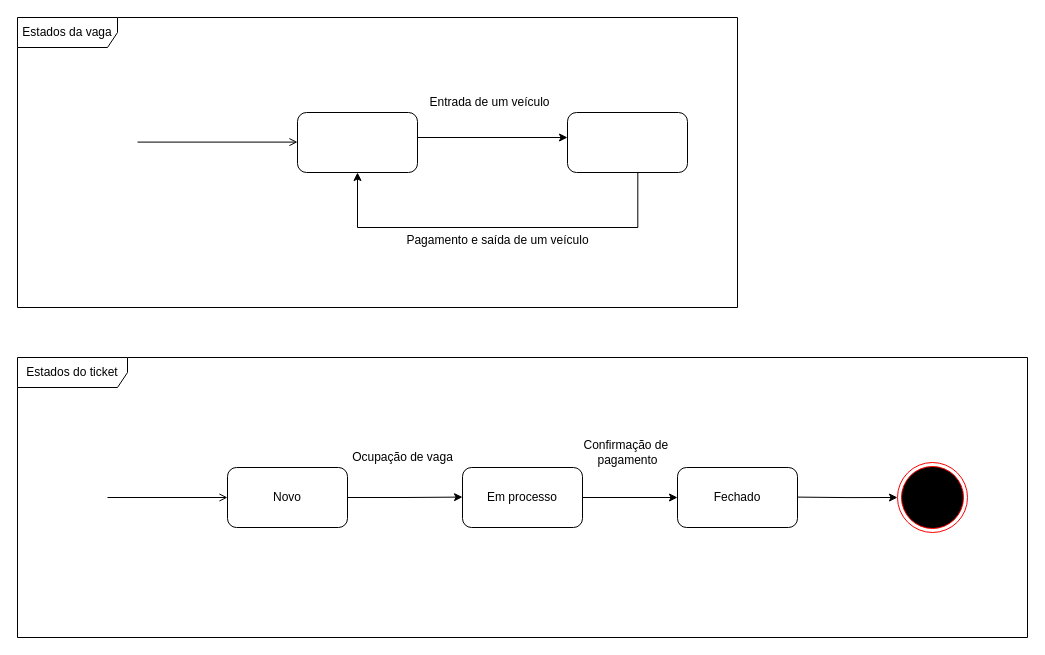
This 1045x655 diagram has some shape labels left out. Each missing label, with the centre of its shape:
"Desocupada" goes at [357,142].
"Ocupada" goes at [627,142].
